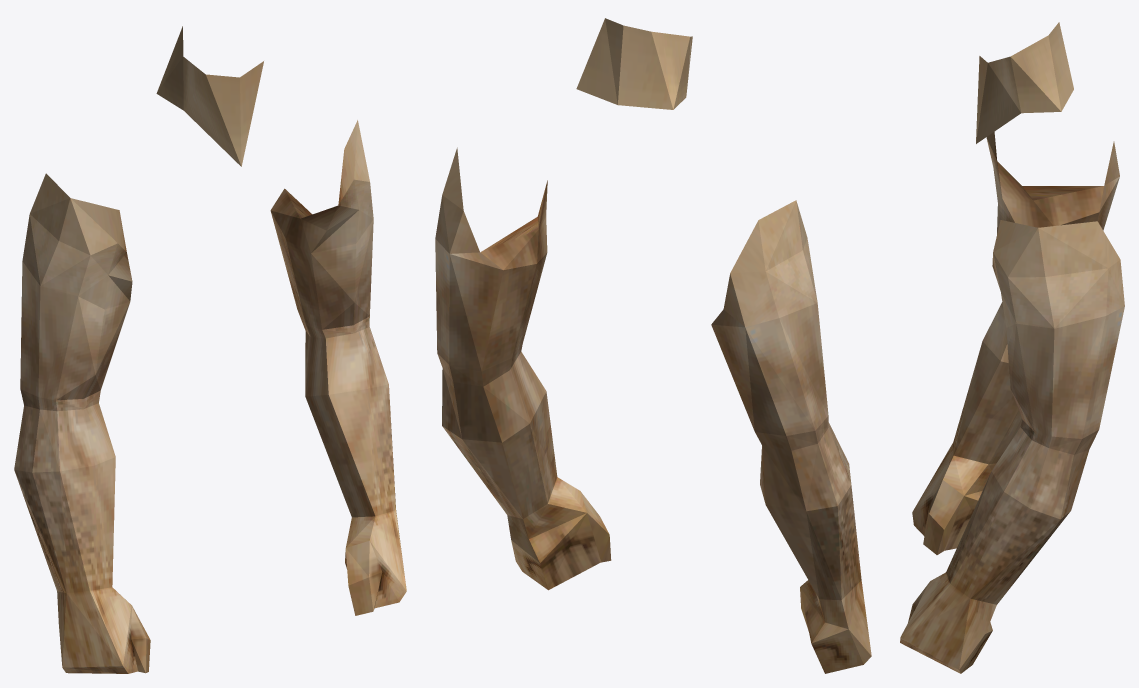
The model's file is Armor_BDT_H.glb.
The picture shows the model from 3 angles, left to right: view 1: azimuth 30°, elevation 25°; view 2: azimuth 150°, elevation 25°; view 3: azimuth 270°, elevation 25°; orthographic projection. The views are drawn at different scales.
Visible parts, largest first — view 1: Armor_BDT_Hzm_Body; view 2: Armor_BDT_Hzm_Body; view 3: Armor_BDT_Hzm_Body.
Part boxes in pixels (x1,y1,x2,y2): Armor_BDT_Hzm_Body: (14, 26, 406, 673); Armor_BDT_Hzm_Body: (435, 18, 871, 673); Armor_BDT_Hzm_Body: (900, 22, 1124, 673).
Bounding box in the file's own units: 0.5959 × 0.9267 × 0.3174.
Materials: 1 (1 with a texture image).
